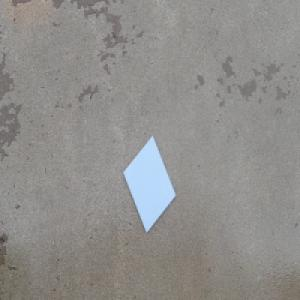PaintChip: (121, 133, 176, 235)
